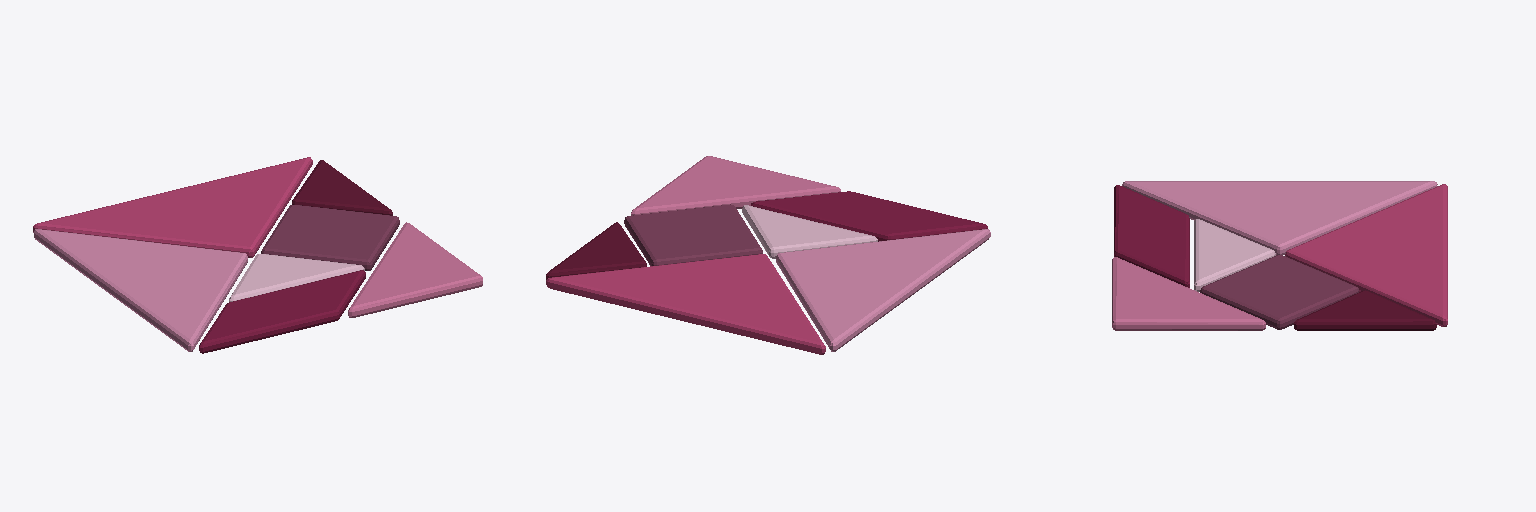
The model's file is fichas_delfin.obj.
3 renders of one model, left to right at view 1: azimuth 30°, elevation 25°; view 2: azimuth 150°, elevation 25°; view 3: azimuth 270°, elevation 25°, orthographic.
Parts seen in each view (by area): view 1: delfin_caja:polySurface5, delfin_caja:polySurface2, delfin_caja:polySurface7, delfin_caja:polySurface4, delfin_caja:polySurface3, delfin_caja:polySurface6, delfin_caja:polySurface1; view 2: delfin_caja:polySurface5, delfin_caja:polySurface2, delfin_caja:polySurface3, delfin_caja:polySurface4, delfin_caja:polySurface7, delfin_caja:polySurface6, delfin_caja:polySurface1; view 3: delfin_caja:polySurface2, delfin_caja:polySurface5, delfin_caja:polySurface4, delfin_caja:polySurface3, delfin_caja:polySurface7, delfin_caja:polySurface1, delfin_caja:polySurface6.
Part boxes in pixels (x1,y1,x2,y2): delfin_caja:polySurface5: (33, 157, 312, 257); delfin_caja:polySurface2: (33, 229, 247, 351); delfin_caja:polySurface7: (199, 270, 365, 353); delfin_caja:polySurface4: (348, 222, 482, 317); delfin_caja:polySurface3: (261, 205, 399, 270); delfin_caja:polySurface6: (229, 254, 364, 301); delfin_caja:polySurface1: (292, 160, 392, 215); delfin_caja:polySurface5: (546, 254, 825, 354); delfin_caja:polySurface2: (776, 229, 990, 351); delfin_caja:polySurface3: (624, 204, 762, 265); delfin_caja:polySurface4: (631, 156, 840, 215); delfin_caja:polySurface7: (751, 191, 987, 241); delfin_caja:polySurface6: (742, 205, 877, 258); delfin_caja:polySurface1: (546, 222, 646, 279); delfin_caja:polySurface2: (1122, 181, 1437, 254); delfin_caja:polySurface5: (1285, 184, 1447, 326); delfin_caja:polySurface4: (1112, 257, 1265, 330); delfin_caja:polySurface3: (1200, 255, 1358, 329); delfin_caja:polySurface7: (1114, 185, 1189, 287); delfin_caja:polySurface1: (1294, 290, 1436, 330); delfin_caja:polySurface6: (1194, 219, 1275, 291).
Size of the model in its own units: 11.78 by 0.4446 by 11.81.